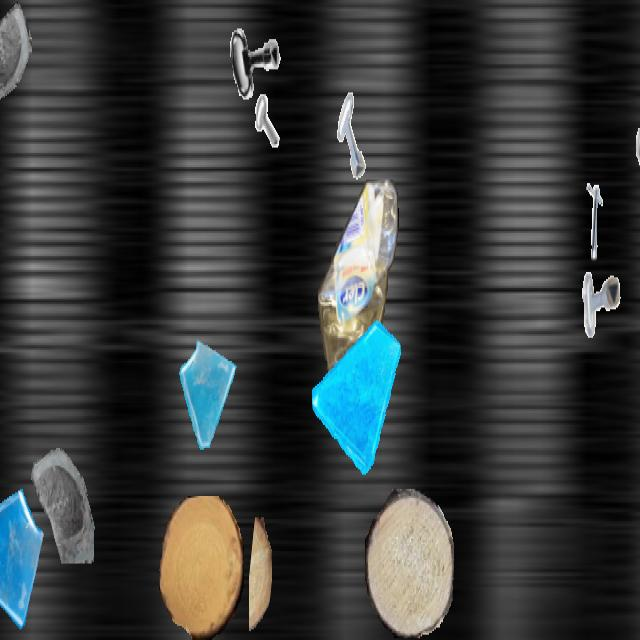glass: (312, 314, 402, 474), (21, 426, 97, 562), (176, 338, 240, 452), (0, 478, 45, 638), (0, 2, 32, 108)
metal: (223, 2, 285, 112), (573, 180, 627, 276), (329, 90, 379, 180), (231, 91, 279, 176), (580, 263, 622, 338), (624, 76, 640, 169)
plastic: (318, 180, 400, 439)
wood: (365, 489, 453, 638), (159, 496, 243, 638), (249, 518, 271, 638)
